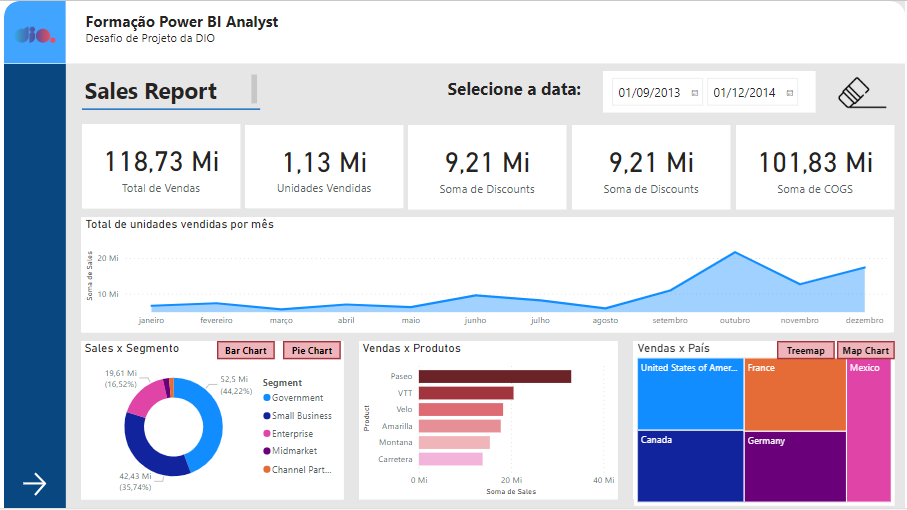

The page's visual inventory and layout, read from the dashboard file:
{"tool":"powerbi","page":{"name":"Página 1","canvas":[1280,720],"ordinal":0},"visuals":[{"type":"shape","box":[87.8,0,1192.3,720],"z":0},{"type":"shape","box":[87.8,0,1192.3,89.3],"z":0,"group":"g6"},{"type":"image","title":"image-clear","box":[1179.3,90.7,77.8,77.8],"z":0,"group":"g7"},{"type":"shape","box":[110.8,139.7,253.4,28.8],"z":0,"group":"g3"},{"type":"shape","box":[112.2,180.3,219.8,114.1],"z":0,"group":"g1"},{"type":"shape","box":[109.4,306.7,1147.7,164.2],"z":0,"group":"g8"},{"type":"clusteredBarChart","title":"Sales x Segmento","fields":{"Y":["Sum(financials. Sales)"],"Category":["financials.Segment"]},"box":[109.4,482.4,373,224.6],"z":0,"group":"g4"},{"type":"shape","box":[504.5,482.4,367.6,224.6],"z":0,"group":"g2"},{"type":"map","title":"Vendas x País","fields":{"Size":["Sum(financials. Sales)"],"Category":["financials.Country"]},"box":[894.2,482.4,370.1,224.6],"z":0,"group":"g5"},{"type":"shape","box":[0,0,87.8,89.3],"z":1000},{"type":"textbox","box":[110.8,8.6,370.1,70.6],"z":1000,"group":"g6"},{"type":"slicer","fields":{"Values":["financials.Date"]},"box":[849.6,99.3,302.4,59],"z":1000,"group":"g7"},{"type":"textbox","box":[109.4,99.4,254.9,51.8],"z":1000,"group":"g3"},{"type":"shape","box":[343.7,180.3,219.8,114.1],"z":1000,"group":"g1"},{"type":"stackedAreaChart","title":"Total de unidades vendidas por mês","fields":{"Category":["financials.Date.Variation.Hierarquia de datas.Mês"],"Y":["Sum(financials. Sales)"]},"box":[110.8,306.7,1153.4,164.2],"z":1000,"group":"g8"},{"type":"shape","box":[109.4,482.4,373.4,224.6],"z":1000,"group":"g2"},{"type":"donutChart","title":"Sales x Segmento","fields":{"Y":["Sum(financials. Sales)"],"Category":["financials.Segment"]},"box":[109.2,483,372.1,225.3],"z":1000,"group":"g4"},{"type":"treemap","title":"Vendas x País","fields":{"Group":["financials.Country"],"Values":["Sum(financials. Sales)"]},"box":[894.3,483,370.3,233.8],"z":1000,"group":"g5"},{"type":"actionButton","title":"Botão - pie","box":[396,482.4,82.1,25.9],"z":1250,"group":"g4"},{"type":"actionButton","title":"Botão - bar","box":[302.4,482.4,82.1,25.9],"z":1500,"group":"g4"},{"type":"actionButton","title":"Botão - map","box":[1182.2,482.4,82.1,25.9],"z":1500,"group":"g5"},{"type":"image","title":"Logo-dio","box":[10.1,8.6,67.7,77.8],"z":2000},{"type":"textbox","box":[624.4,99.7,221.8,56.2],"z":2000,"group":"g7"},{"type":"shape","box":[575.2,180.3,219.8,114.1],"z":2000,"group":"g1"},{"type":"shape","box":[893.8,482.4,370.5,224.6],"z":2000,"group":"g2"},{"type":"actionButton","title":"Botão - treemap","box":[1097.2,482.4,82.1,25.9],"z":2000,"group":"g5"},{"type":"actionButton","box":[1167.8,99.3,93.6,59],"z":3000,"group":"g7"},{"type":"group","id":"g1","title":"Cartões","box":[110.9,174.2,1150.6,119.5],"z":3000},{"type":"shape","box":[808.4,180.3,219.8,114.1],"z":3000,"group":"g1"},{"type":"shape","box":[0,89.3,87.8,630.7],"z":4000},{"type":"shape","box":[1041.6,180.3,219.8,114.1],"z":4000,"group":"g1"},{"type":"card","fields":{"Values":["Sum(financials. Sales)"]},"box":[110.9,174.2,224.6,119.5],"z":5000,"group":"g1"},{"type":"group","id":"g2","title":"Cartões 2","box":[109.4,482.4,1154.9,224.6],"z":5000},{"type":"card","fields":{"Values":["Sum(financials.Units Sold)"]},"box":[342.7,175.7,224.6,118.1],"z":6000},{"type":"card","fields":{"Values":["Sum(financials.Discounts)"]},"box":[573.1,175.7,224.6,119.5],"z":7000},{"type":"card","fields":{"Values":["Sum(financials.Discounts)"]},"box":[806.4,175.7,224.6,119.5],"z":8000},{"type":"card","fields":{"Values":["Sum(financials.COGS)"]},"box":[1039.7,175.7,224.6,119.5],"z":9000},{"type":"clusteredBarChart","title":"Vendas x Produtos","fields":{"Y":["Sum(financials. Sales)"],"Category":["financials.Product"]},"box":[504,482.4,367.2,224.6],"z":10000},{"type":"group","id":"g3","title":"Sales Report","box":[109.4,99.4,254.9,69.1],"z":11000},{"type":"group","id":"g4","title":"Sales x Segmento","box":[109.2,482.4,373.2,225.9],"z":12000},{"type":"group","id":"g5","title":"Sales x Country","box":[894.2,482.4,370.4,234.4],"z":13000},{"type":"group","id":"g6","title":"Título","box":[87.8,0,1192.3,89.3],"z":14000},{"type":"group","id":"g7","title":"Segmentação por data","box":[624.4,90.7,637,77.8],"z":15000},{"type":"group","id":"g8","title":"Sales x mês","box":[109.4,306.7,1154.9,164.2],"z":16000},{"type":"actionButton","box":[21.6,665.3,46.1,43.2],"z":17000}]}

Visuals, with their boxes on the page's 1280x720 design canvas (x1, y1, x2, y2). These are canvas units, not pixel positions in the 907x510 screenshot, which may show the page scaled, cropped or inside an application window:
shape: [88, 0, 1280, 720]
shape: [88, 0, 1280, 89]
"image-clear" image: [1179, 91, 1257, 168]
shape: [111, 140, 364, 168]
shape: [112, 180, 332, 294]
shape: [109, 307, 1257, 471]
"Sales x Segmento" clusteredBarChart: [109, 482, 482, 707]
shape: [504, 482, 872, 707]
"Vendas x País" map: [894, 482, 1264, 707]
shape: [0, 0, 88, 89]
textbox: [111, 9, 481, 79]
slicer - financials.Date: [850, 99, 1152, 158]
textbox: [109, 99, 364, 151]
shape: [344, 180, 564, 294]
"Total de unidades vendidas por mês" stackedAreaChart: [111, 307, 1264, 471]
shape: [109, 482, 483, 707]
"Sales x Segmento" donutChart: [109, 483, 481, 708]
"Vendas x País" treemap: [894, 483, 1265, 717]
"Botão - pie" actionButton: [396, 482, 478, 508]
"Botão - bar" actionButton: [302, 482, 384, 508]
"Botão - map" actionButton: [1182, 482, 1264, 508]
"Logo-dio" image: [10, 9, 78, 86]
textbox: [624, 100, 846, 156]
shape: [575, 180, 795, 294]
shape: [894, 482, 1264, 707]
"Botão - treemap" actionButton: [1097, 482, 1179, 508]
actionButton: [1168, 99, 1261, 158]
"Cartões" group: [111, 174, 1262, 294]
shape: [808, 180, 1028, 294]
shape: [0, 89, 88, 720]
shape: [1042, 180, 1261, 294]
card - Sum(financials. Sales): [111, 174, 336, 294]
"Cartões 2" group: [109, 482, 1264, 707]
card - Sum(financials.Units Sold): [343, 176, 567, 294]
card - Sum(financials.Discounts): [573, 176, 798, 295]
card - Sum(financials.Discounts): [806, 176, 1031, 295]
card - Sum(financials.COGS): [1040, 176, 1264, 295]
"Vendas x Produtos" clusteredBarChart: [504, 482, 871, 707]
"Sales Report" group: [109, 99, 364, 168]
"Sales x Segmento" group: [109, 482, 482, 708]
"Sales x Country" group: [894, 482, 1265, 717]
"Título" group: [88, 0, 1280, 89]
"Segmentação por data" group: [624, 91, 1261, 168]
"Sales x mês" group: [109, 307, 1264, 471]
actionButton: [22, 665, 68, 708]
